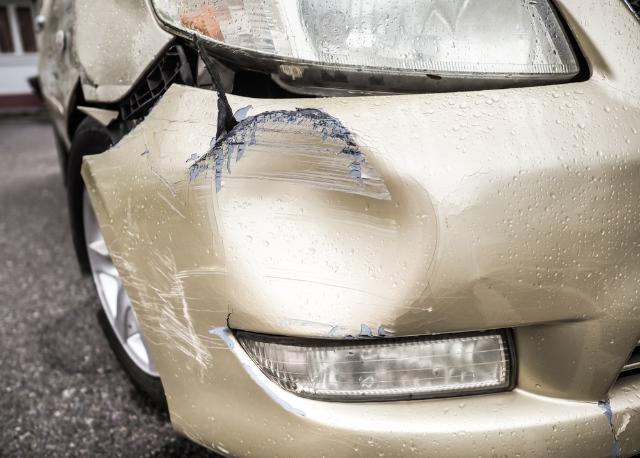crack: (576, 400, 620, 454), (209, 92, 242, 156), (225, 308, 234, 330)
dent: (200, 113, 434, 336)
dislocated part: (80, 36, 623, 458)
scratch: (80, 113, 231, 385)
